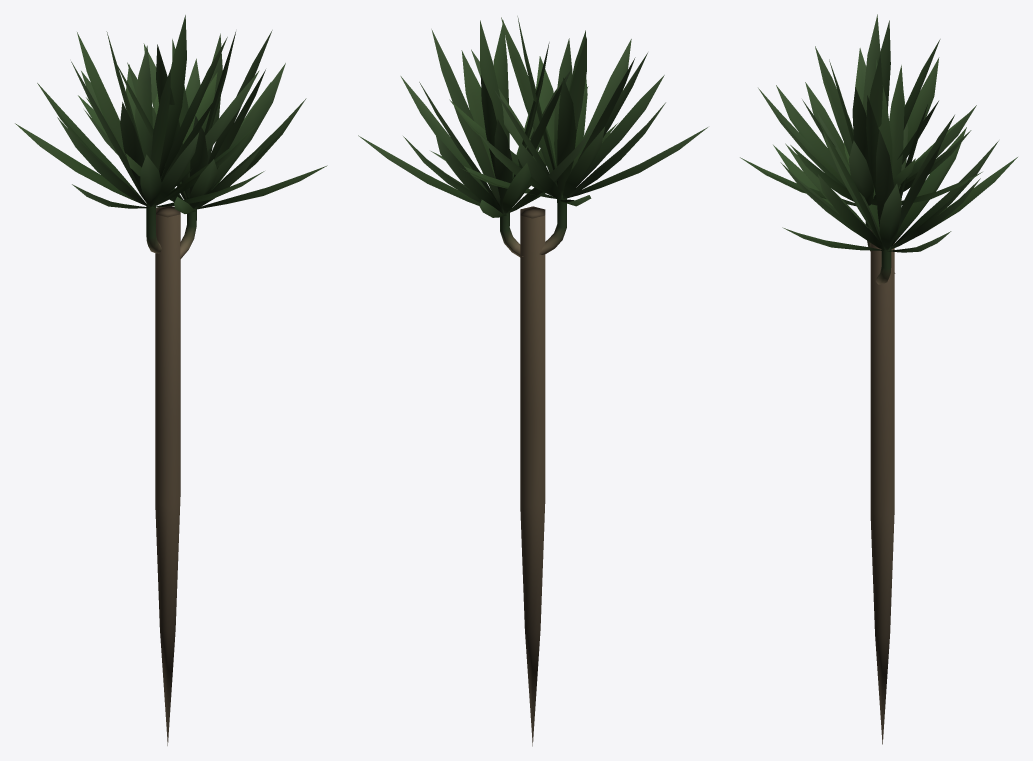
3 renders of one model, left to right at view 1: azimuth 30°, elevation 25°; view 2: azimuth 150°, elevation 25°; view 3: azimuth 270°, elevation 25°, orthographic. The views are drawn at different scales.
Visible parts, largest first — view 1: alt2.258; view 2: alt2.258; view 3: alt2.258.
Part boxes in pixels (<box>): alt2.258: <box>15,15,327,745</box>; alt2.258: <box>358,16,707,746</box>; alt2.258: <box>740,14,1017,744</box>.
Size of the model in its own units: 0.1986 by 0.5 by 0.1812.
